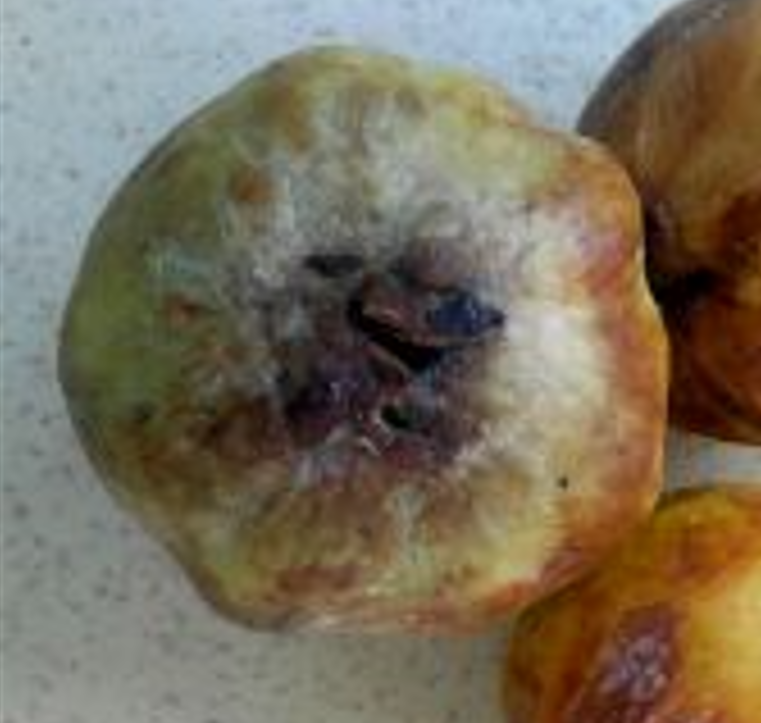guava_C: (58, 43, 671, 641)
